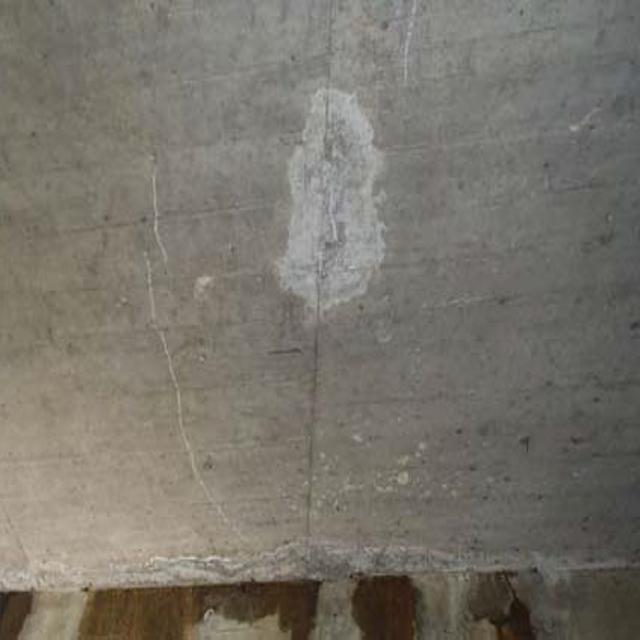freelime: (263, 69, 387, 324)
